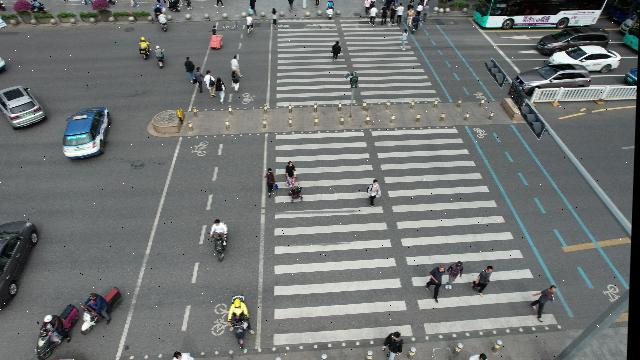non-motor-vehicle: (84, 287, 124, 333), (38, 311, 77, 353), (230, 296, 259, 348), (210, 219, 230, 259), (138, 36, 151, 60), (154, 45, 165, 69), (159, 13, 172, 31), (325, 1, 336, 18), (167, 1, 181, 14), (245, 16, 255, 34), (412, 16, 421, 34), (153, 5, 162, 21)
person: (534, 286, 560, 316), (285, 161, 304, 201), (428, 266, 447, 298), (475, 265, 493, 297), (386, 332, 404, 360), (266, 169, 280, 197), (450, 262, 464, 290), (368, 180, 382, 208), (210, 26, 224, 50), (206, 70, 217, 98), (332, 40, 345, 60), (185, 56, 195, 82), (195, 68, 204, 92), (217, 78, 226, 102), (270, 9, 279, 28), (231, 72, 240, 90), (399, 4, 406, 26), (231, 55, 241, 70), (371, 6, 378, 26), (382, 6, 389, 26), (391, 4, 398, 24), (248, 1, 257, 15), (402, 30, 408, 50), (475, 354, 492, 360), (424, 4, 429, 22), (213, 1, 225, 8), (365, 0, 371, 14), (409, 8, 414, 24), (416, 4, 422, 16), (130, 0, 138, 8), (289, 1, 294, 12), (186, 0, 191, 10), (156, 1, 164, 6), (408, 1, 414, 7), (316, 1, 320, 8), (386, 0, 392, 4), (369, 2, 373, 4)
